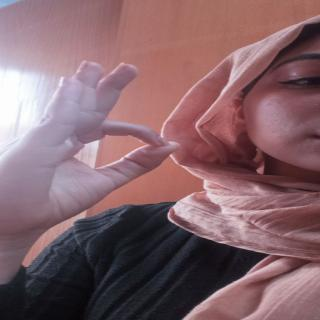Space: (0, 64, 194, 213)
